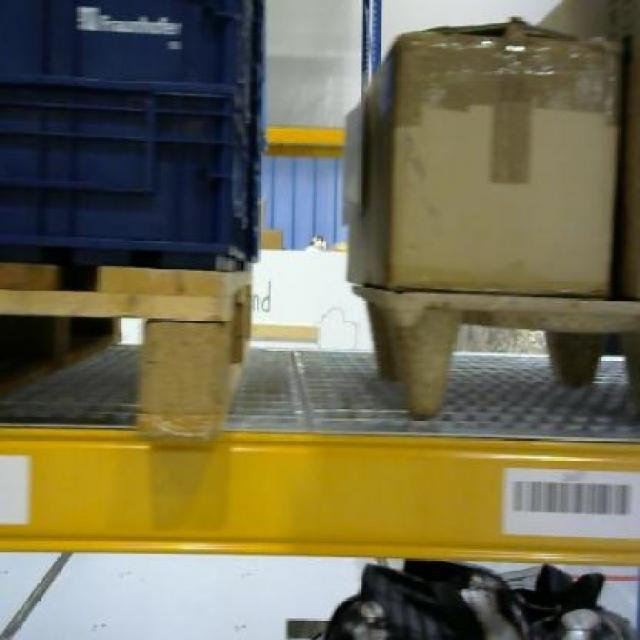box: (340, 33, 616, 290)
